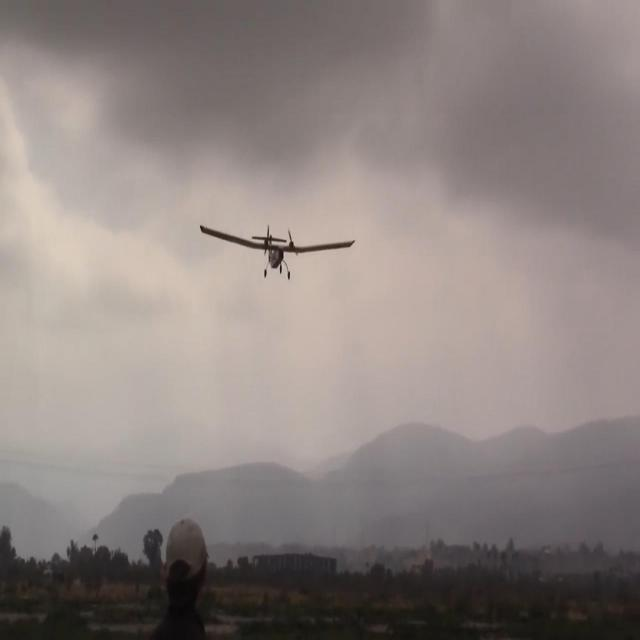iha: (198, 221, 358, 282)
